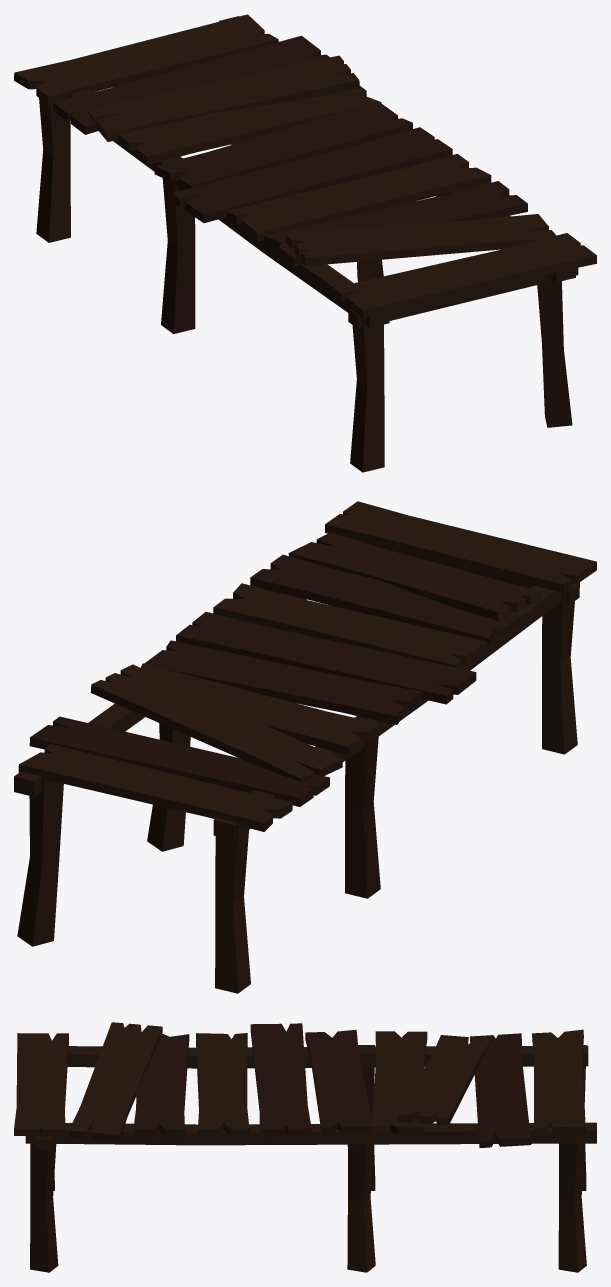
Rendered from trap.obj.
The picture shows the model from 3 angles, top to bottom: view 1: azimuth 30°, elevation 25°; view 2: azimuth 150°, elevation 25°; view 3: azimuth 270°, elevation 25°; orthographic projection. The views are drawn at different scales.
Parts seen in each view (by area): view 1: Cube.033_Cube.054; view 2: Cube.033_Cube.054; view 3: Cube.033_Cube.054.
Part boxes in pixels (bbox=[...]): Cube.033_Cube.054: bbox=[14, 14, 596, 472]; Cube.033_Cube.054: bbox=[14, 501, 596, 993]; Cube.033_Cube.054: bbox=[14, 1022, 596, 1272].
Bounding box in the file's own units: 2.41 × 1.61 × 5.37.
